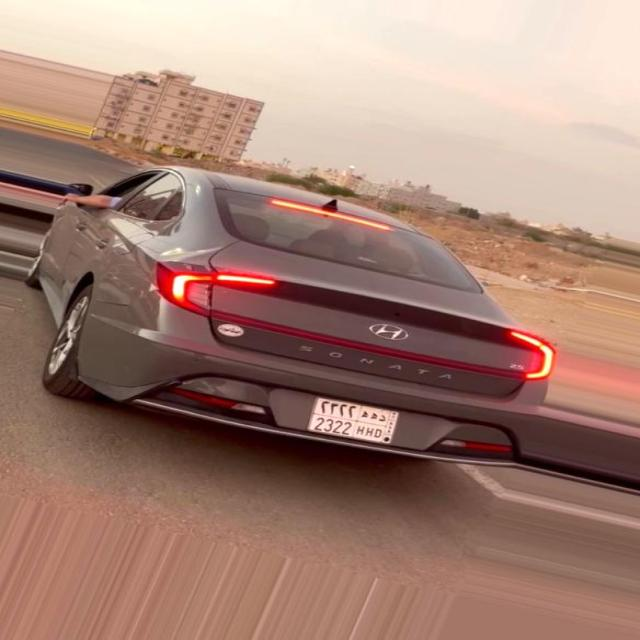Car-plate: (283, 382, 423, 458)
